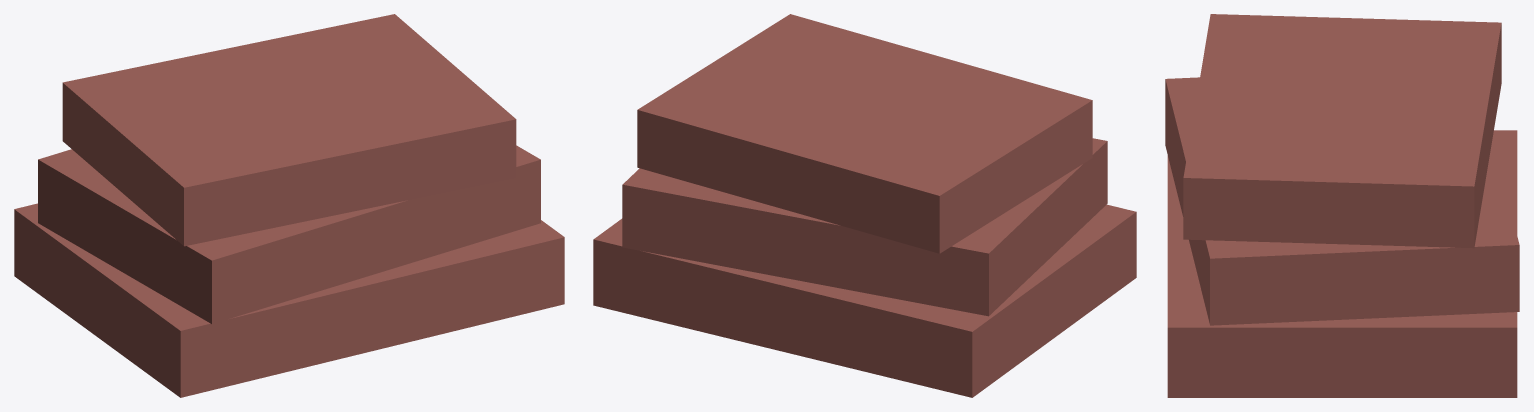
The model's file is SM_Prop_BooksSet_01.glb.
3 views of the same model, side by side, from view 1: azimuth 30°, elevation 25°; view 2: azimuth 150°, elevation 25°; view 3: azimuth 270°, elevation 25° (orthographic). The views are drawn at different scales.
Visible parts, largest first — view 1: SM_Prop_BooksSet_01; view 2: SM_Prop_BooksSet_01; view 3: SM_Prop_BooksSet_01.
Part boxes in pixels (box(x1,y1,x2,y2)): SM_Prop_BooksSet_01: box(14, 14, 564, 397); SM_Prop_BooksSet_01: box(593, 14, 1136, 397); SM_Prop_BooksSet_01: box(1165, 14, 1519, 397).
Bounding box in the file's own units: 0.24 × 0.113 × 0.1821.
